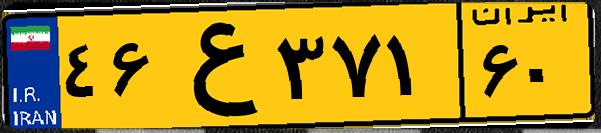0: (525, 38, 570, 115)
1: (385, 28, 445, 110)
3: (270, 28, 330, 110)
4: (57, 26, 110, 100)
6: (475, 38, 525, 113), (110, 28, 158, 98)
7: (330, 28, 385, 110)
ع: (158, 12, 270, 120)
